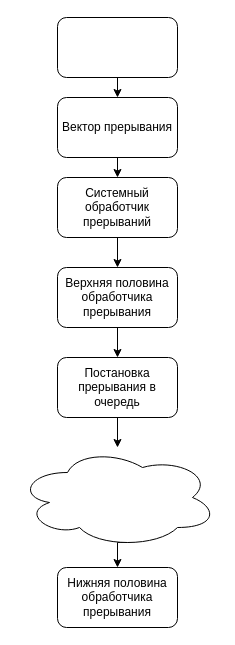
Image size: 235x645. Some labels were removed from this diagram. Each missing label, with the centre of its shape:
"Планировщик переключает процессы и потоки" belongs at point (117, 497).
"Происходит прерывание" belongs at point (117, 47).
